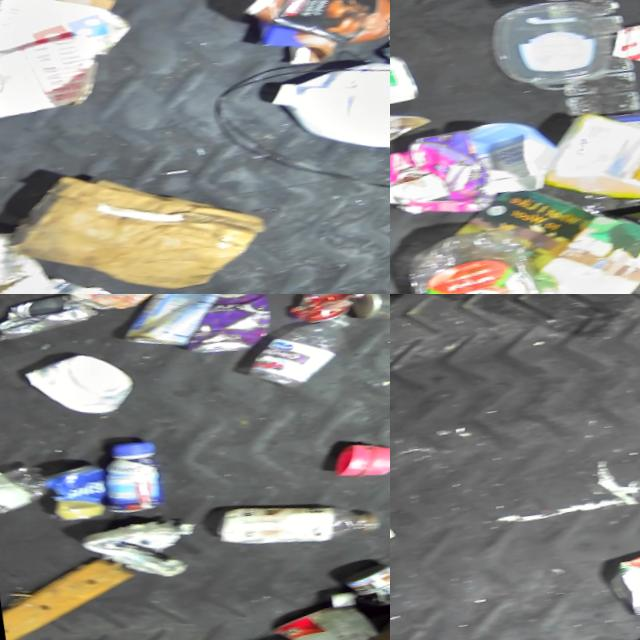can: (115, 294, 232, 354), (177, 294, 282, 357), (0, 294, 104, 347), (45, 457, 119, 524), (600, 522, 640, 630), (62, 294, 203, 319), (390, 43, 424, 119), (286, 294, 371, 323), (343, 552, 390, 593)
milk_jug: (264, 40, 390, 169)
non_white_jug: (531, 77, 640, 210)
plastic_bottle: (401, 209, 566, 294), (239, 301, 368, 393), (0, 456, 59, 518)
